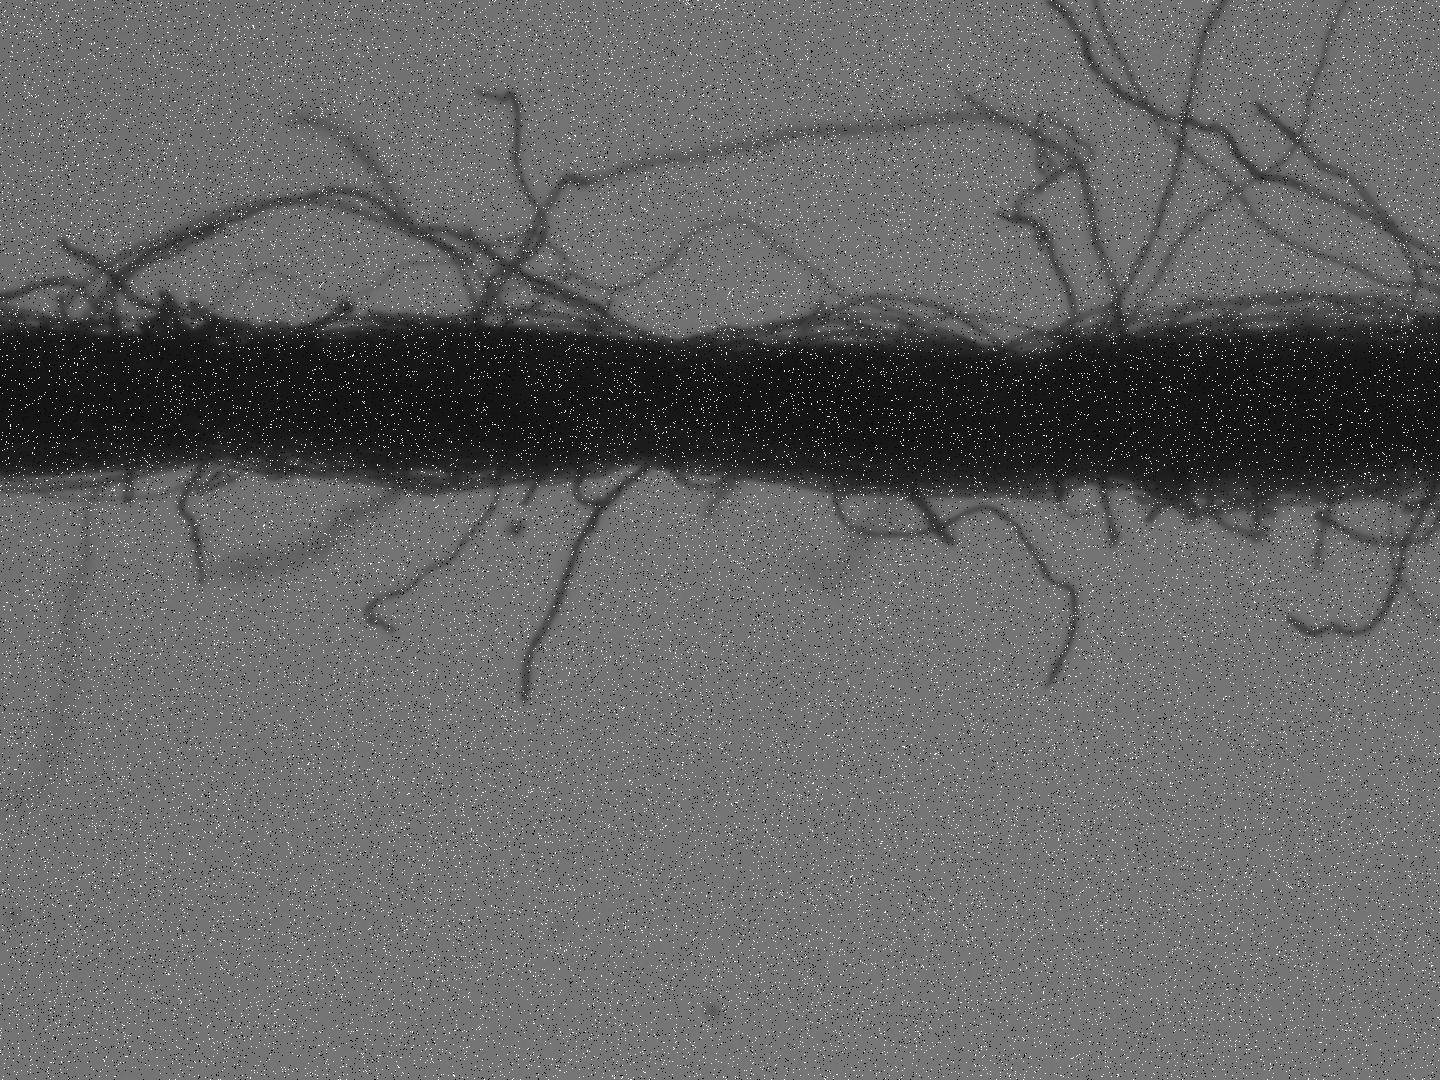loop_fiber: (464, 111, 1248, 349), (66, 197, 508, 336), (689, 293, 998, 348), (1169, 288, 1407, 336), (756, 314, 973, 343), (345, 463, 518, 492), (759, 320, 891, 345), (1058, 302, 1126, 347), (272, 445, 371, 474), (1170, 487, 1247, 514), (670, 466, 742, 487), (1005, 328, 1070, 349)
protruding_fiber: (829, 479, 1077, 690), (1251, 107, 1418, 311), (518, 464, 649, 704), (1279, 491, 1434, 640), (365, 483, 498, 635), (473, 84, 549, 312), (1314, 480, 1340, 573), (1102, 473, 1121, 545)
